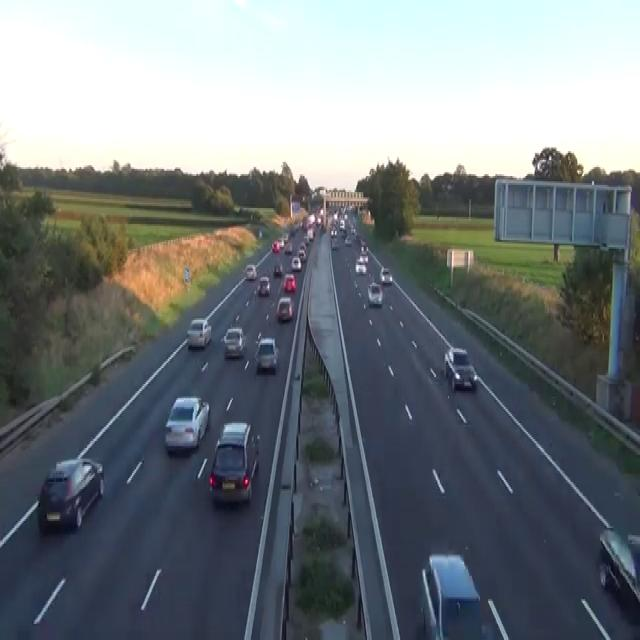Car: (420, 551, 482, 638), (37, 457, 105, 533), (208, 421, 260, 505), (598, 526, 639, 606), (164, 394, 209, 452), (443, 347, 477, 391), (626, 531, 639, 601), (254, 336, 278, 373), (598, 562, 620, 602), (186, 318, 211, 348), (223, 326, 246, 358), (276, 297, 293, 322), (367, 281, 383, 306), (598, 562, 611, 588), (283, 272, 296, 292), (379, 266, 392, 284), (258, 276, 270, 295), (245, 263, 257, 279), (355, 258, 366, 274), (297, 246, 306, 262), (291, 256, 301, 270), (273, 263, 282, 276), (271, 240, 280, 252), (307, 228, 315, 240), (359, 251, 368, 261), (331, 238, 339, 249), (307, 213, 315, 224), (284, 242, 292, 252), (282, 231, 289, 242), (344, 235, 351, 245), (360, 238, 366, 249), (278, 238, 284, 249), (303, 233, 309, 243), (330, 228, 337, 236), (340, 228, 346, 236), (316, 217, 321, 226), (258, 230, 262, 238)
